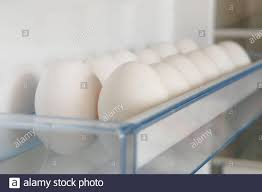eggs: (135, 27, 262, 89), (44, 56, 103, 131), (113, 59, 168, 127)
